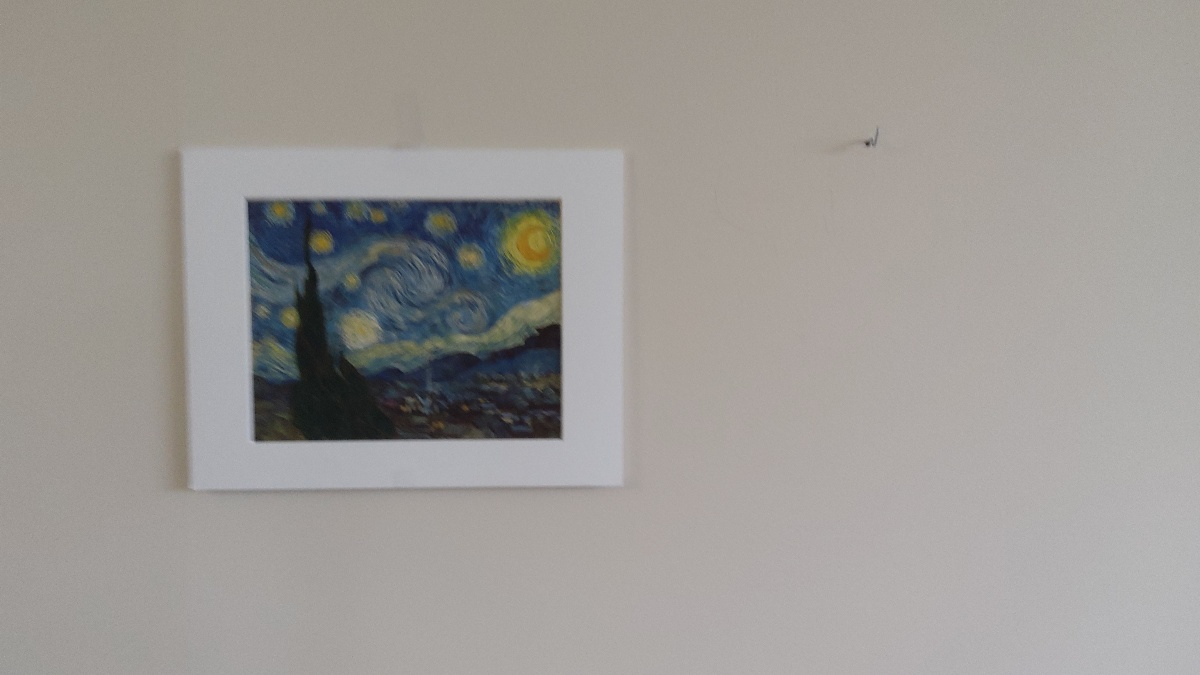painting: (239, 185, 574, 446)
